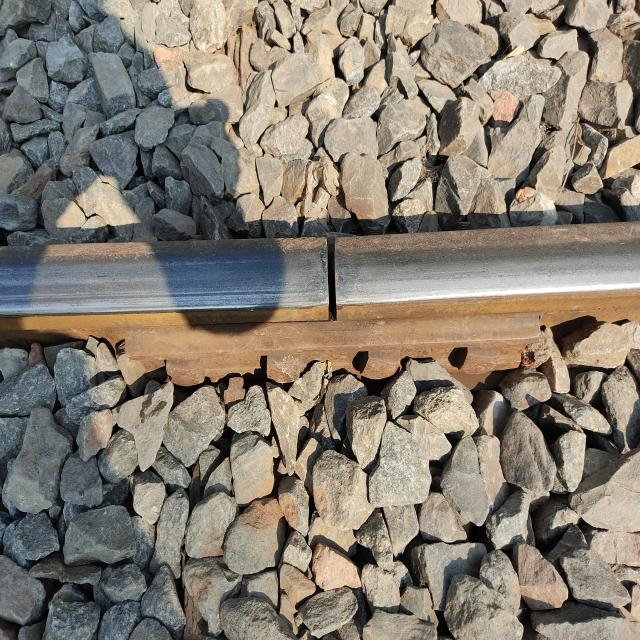defective: (251, 215, 401, 354)
